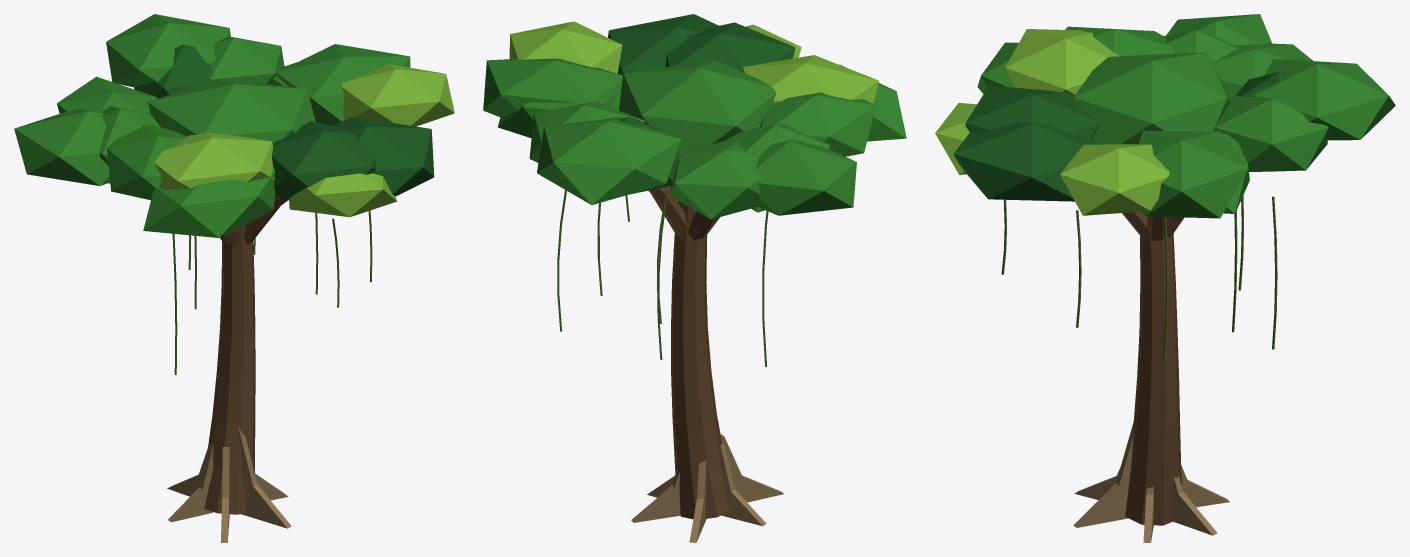
Rendered from giant_tree.glb.
The picture shows the model from 3 angles, left to right: view 1: azimuth 30°, elevation 25°; view 2: azimuth 150°, elevation 25°; view 3: azimuth 270°, elevation 25°; orthographic projection. The views are drawn at different scales.
Parts seen in each view (by area): view 1: giant_tree; view 2: giant_tree; view 3: giant_tree.
Boxes of the visible parts, x1,y1,x2,y2 form: giant_tree: (14,14,454,542); giant_tree: (483,14,906,542); giant_tree: (935,14,1395,542).
Bounding box in the file's own units: 14.93 × 16.21 × 14.75.
